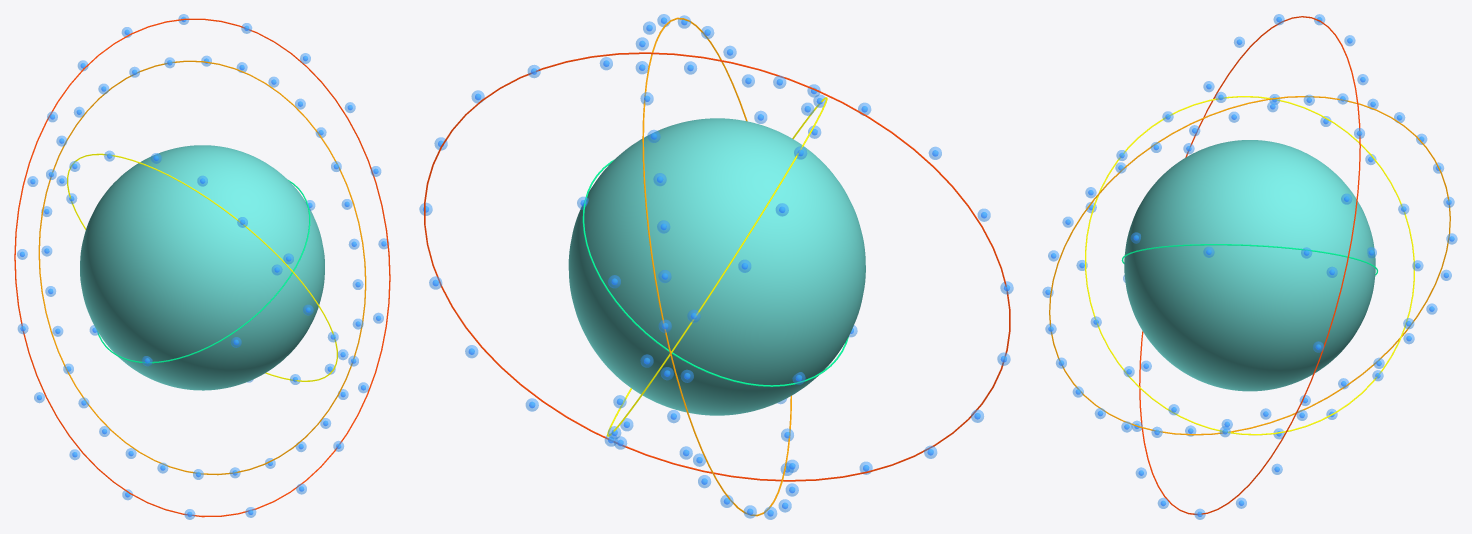
3 views of the same model, side by side, from view 1: azimuth 30°, elevation 25°; view 2: azimuth 150°, elevation 25°; view 3: azimuth 270°, elevation 25° (orthographic). The views are drawn at different scales.
Parts seen in each view (by area): view 1: Tl, object 126, object 61, object 24, object 7; view 2: Tl, object 126, object 61, object 24, object 7; view 3: Tl, object 61, object 24, object 126, object 7.
Boxes of the visible parts, x1,y1,x2,y2 form: Tl: [80, 145, 324, 390]; object 126: [14, 18, 390, 517]; object 61: [38, 60, 366, 475]; object 24: [67, 153, 337, 381]; object 7: [97, 180, 310, 363]; Tl: [568, 118, 865, 415]; object 126: [424, 52, 1010, 481]; object 61: [642, 17, 791, 516]; object 24: [607, 97, 827, 436]; object 7: [582, 159, 848, 386]; Tl: [1124, 140, 1375, 391]; object 61: [1049, 95, 1450, 435]; object 24: [1085, 96, 1414, 435]; object 126: [1139, 16, 1360, 514]; object 7: [1121, 244, 1377, 275].
Bounding box in the file's own units: 7.1 × 6.74 × 5.85.
